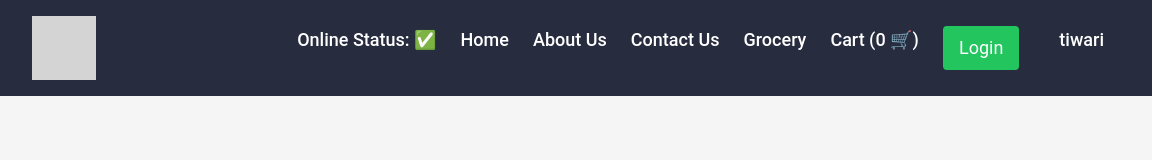
Scenario: Header component › toggles login/logout button when clicked
// Simulate button click and check if it toggles to "Logout"
Click the button "Login".
click(981, 48)  # box [943,26,1019,70]
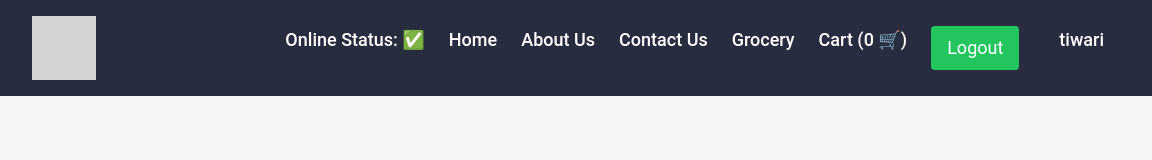
Expected: the button "login" reads "Logout"
// Simulate another click and check if it toggles back to "Login"
Click the button "login".
click(975, 48)  # box [931,26,1019,70]
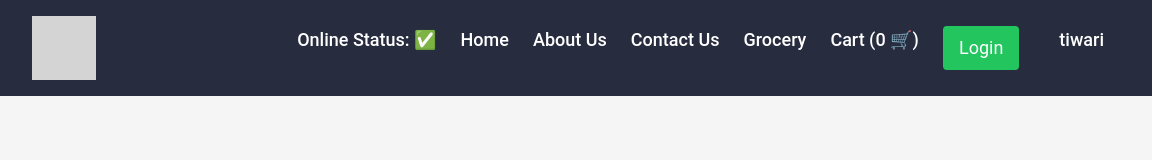
Expected: the button "Login" is shown, [943,26,1019,70]
